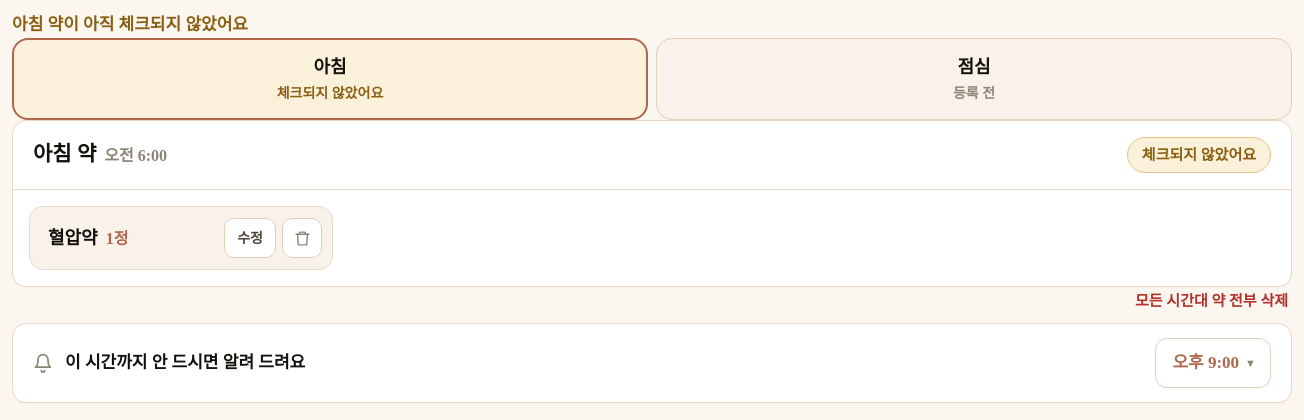
Test: WardMedicationCard (Chrome) › 지난 시간대는 "안 드셨어요"로 단정하지 않고, 오늘 늦게 등록한 약은 등록 전으로 보여 준다
Expected: the button "아침 체크되지 않았어요" is shown, x1=12 y1=38 x2=648 y2=120
Step 1. Click the button "점심 등록 전" → (974, 78), box x1=656 y1=38 x2=1292 y2=120
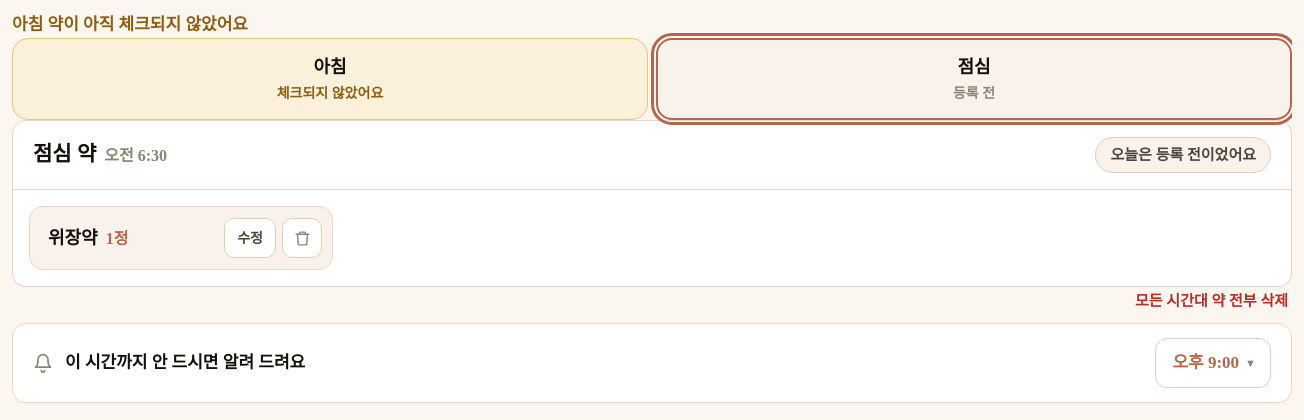
Now the text "오늘은 등록 전이었어요" is shown, box x1=1096 y1=136 x2=1271 y2=173
